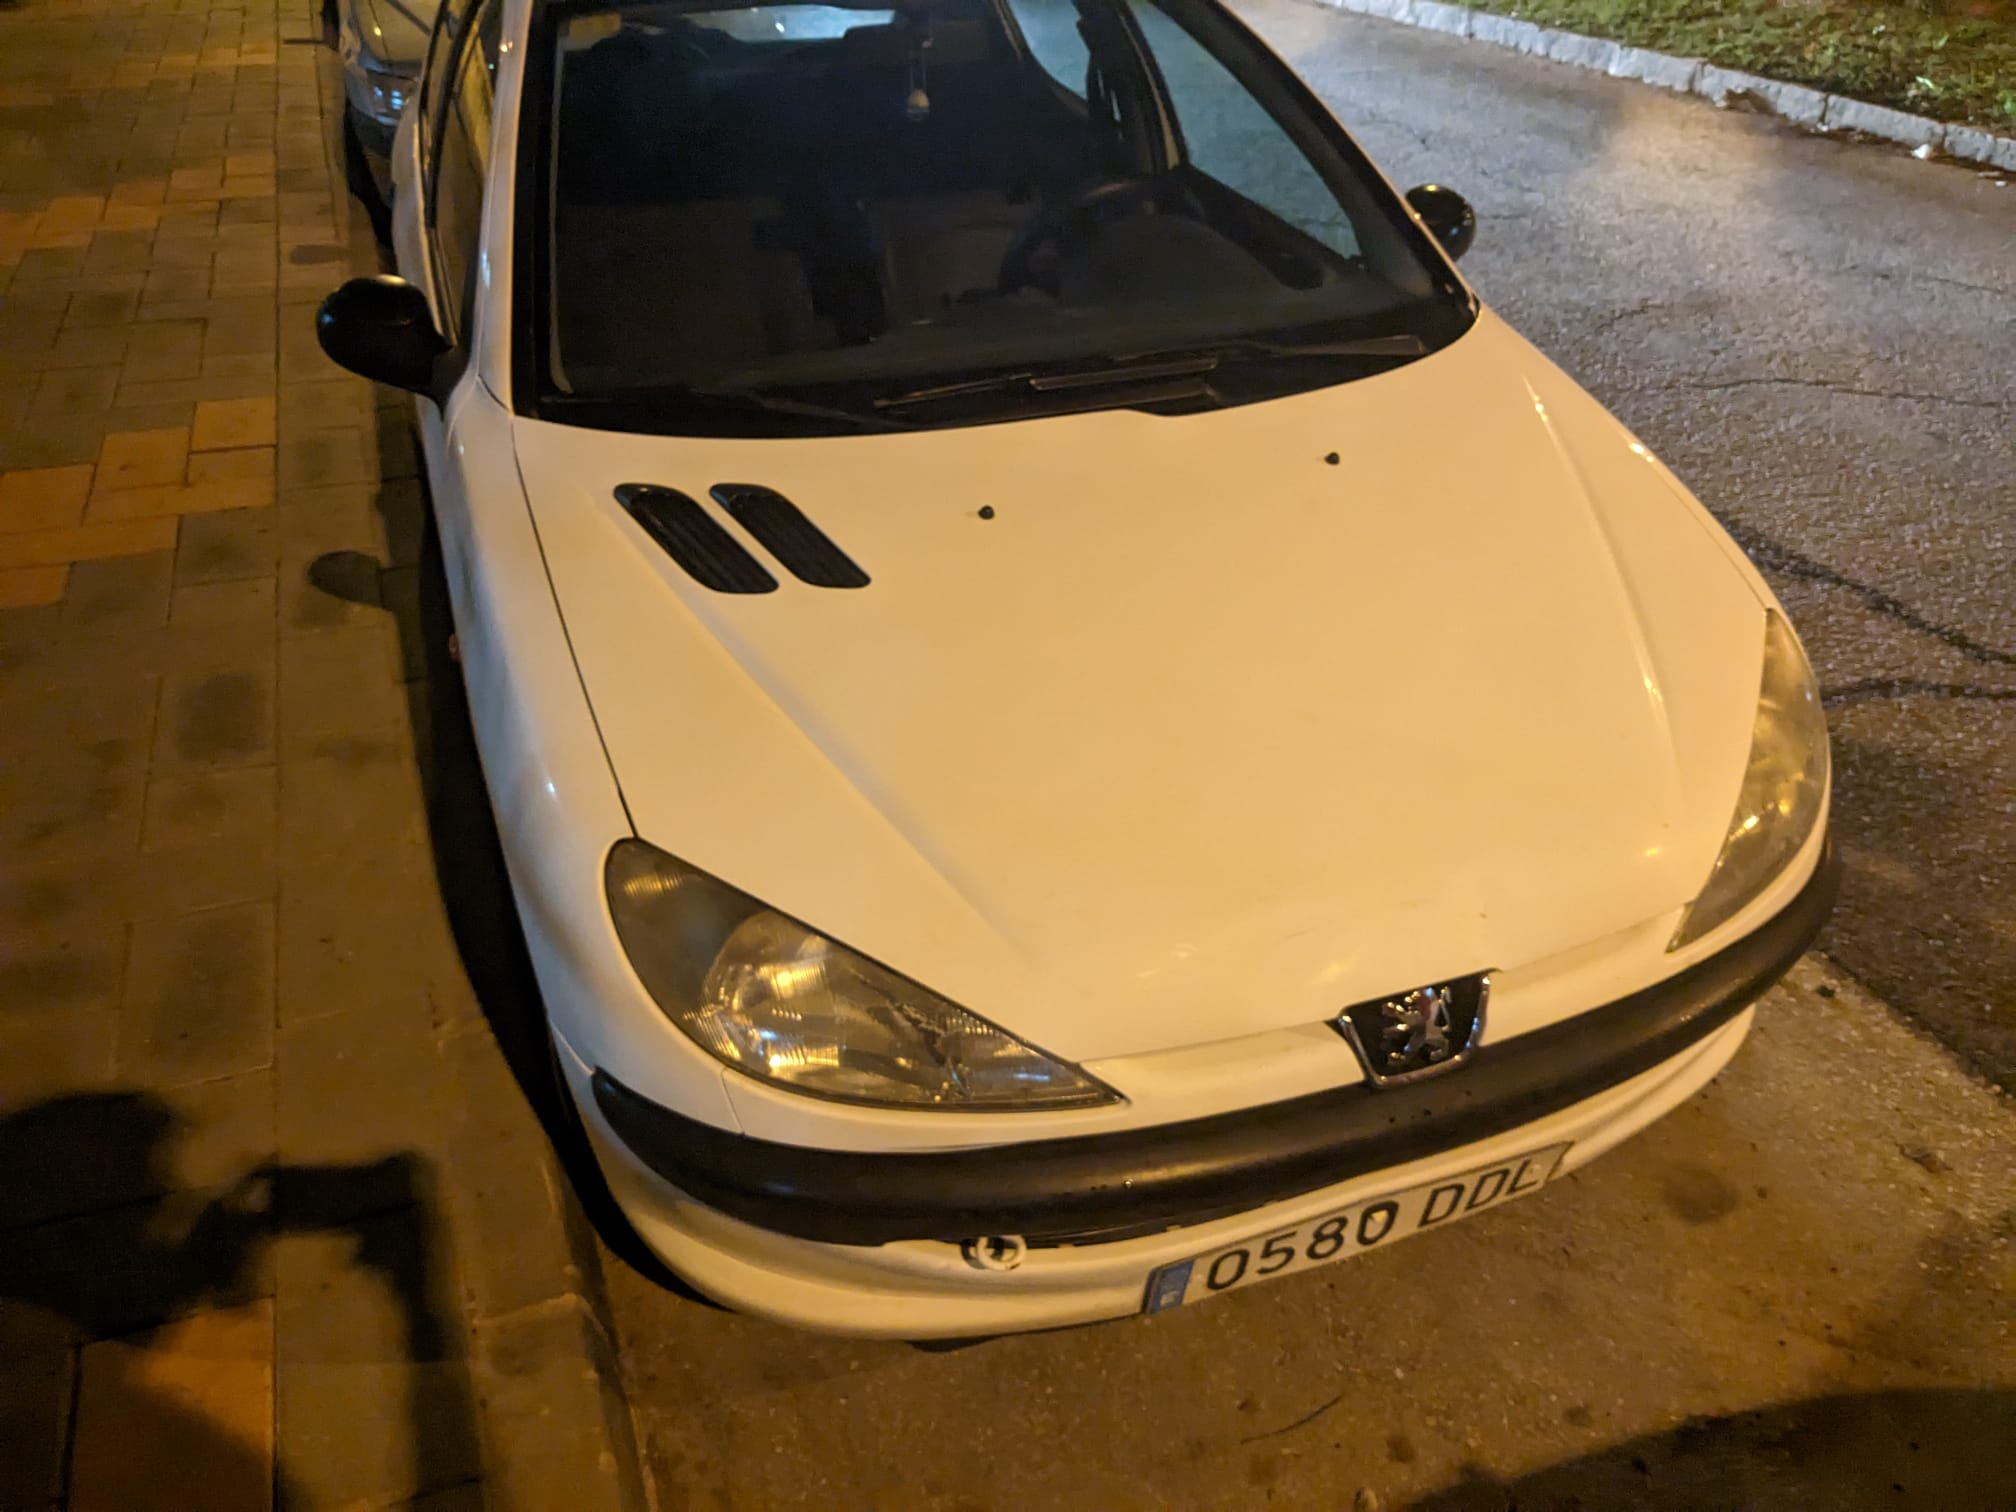car: (283, 0, 1835, 1371)
